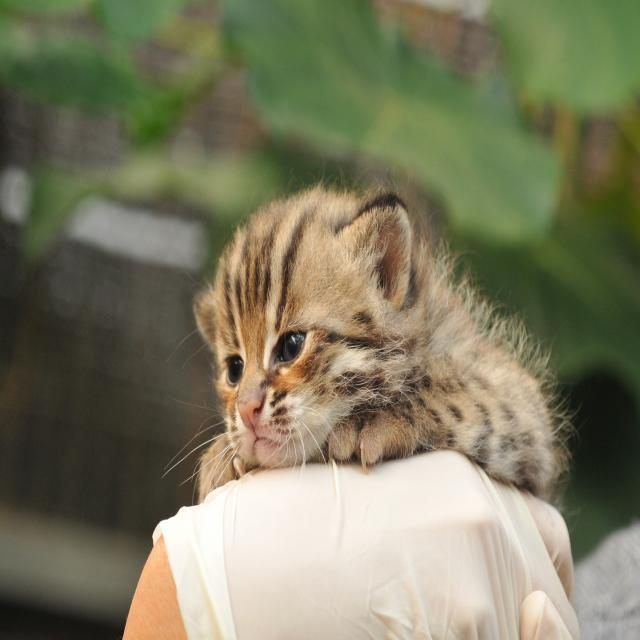leopard: (148, 172, 566, 532)
